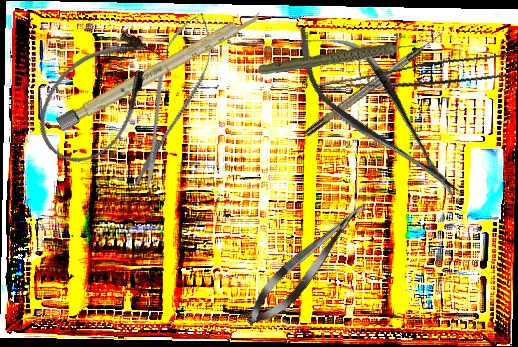Cannula: (20, 14, 177, 179)
Handpiece: (257, 30, 423, 90)
Hook Surgical: (301, 29, 448, 138)
Micro Scissor: (274, 3, 481, 222), (237, 191, 378, 336), (119, 5, 224, 196)
Scalpel Handle: (55, 7, 264, 132)
Tissue Forceps: (314, 47, 513, 113)
